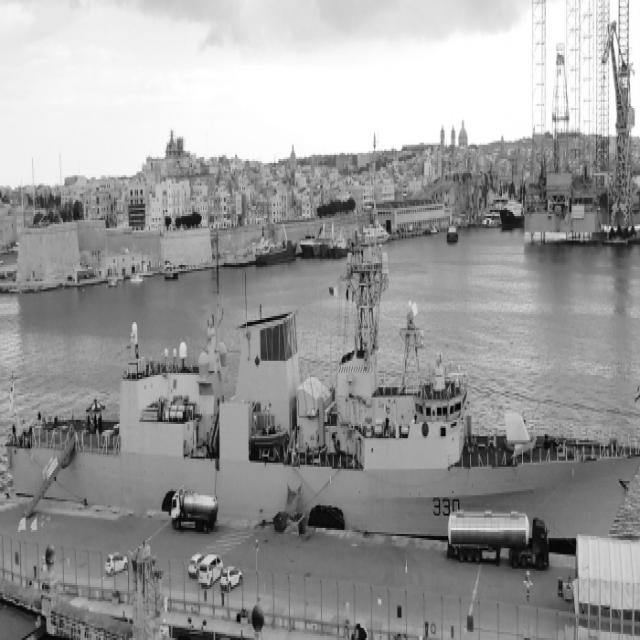Fragata: (3, 213, 640, 572)
